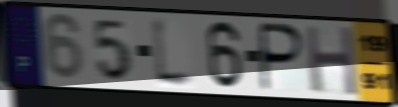5: (94, 18, 136, 82)
6: (40, 11, 89, 85), (204, 20, 244, 91)
H: (302, 24, 361, 99)
L: (149, 14, 199, 92)
P: (259, 21, 307, 94)
